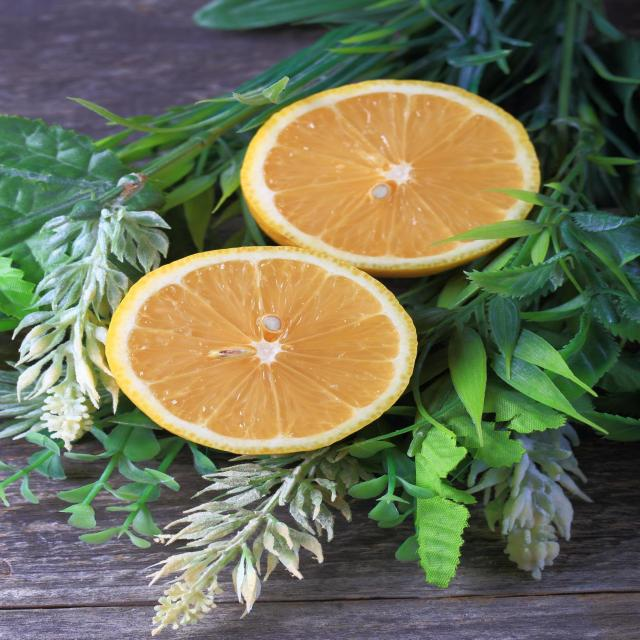lemon: (97, 236, 426, 461), (234, 75, 546, 281)
